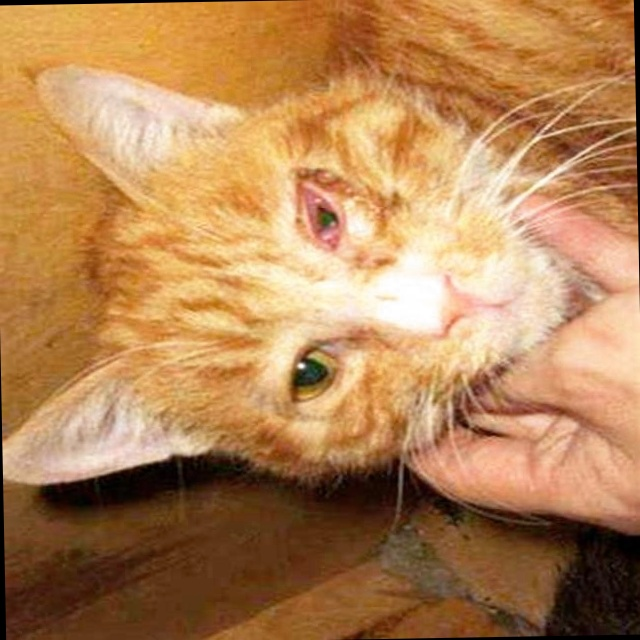eye_infection: (293, 178, 351, 251), (286, 338, 343, 400)
